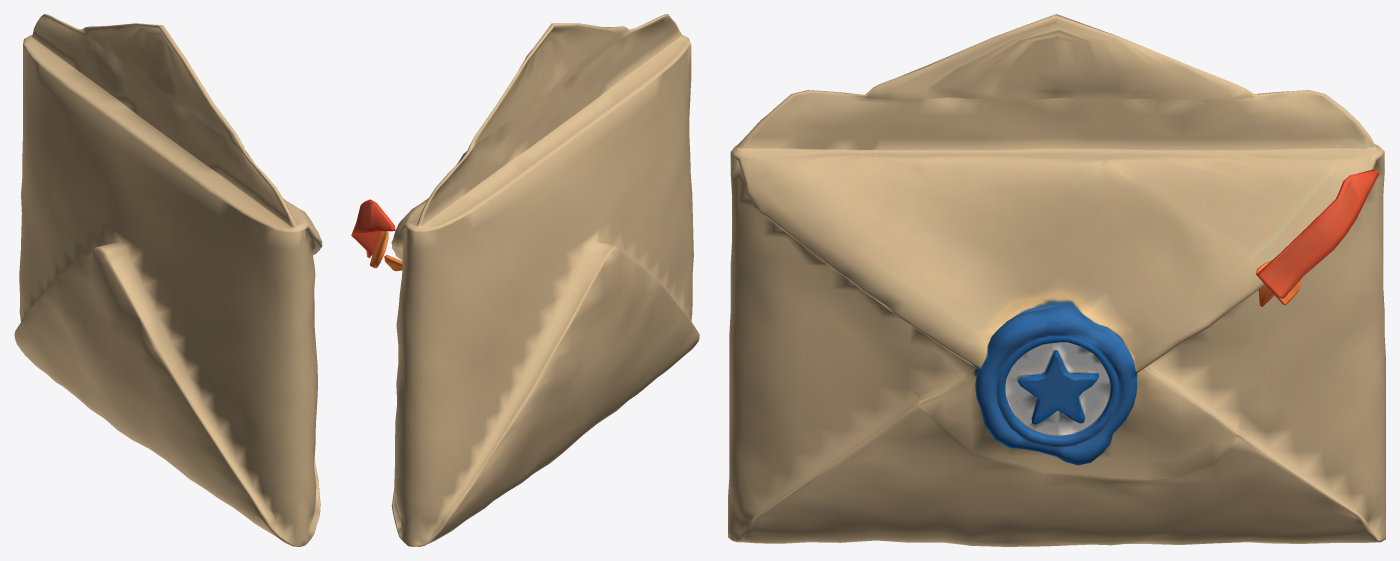
3 renders of one model, left to right at view 1: azimuth 30°, elevation 25°; view 2: azimuth 150°, elevation 25°; view 3: azimuth 270°, elevation 25°, orthographic. The views are drawn at different scales.
Visible parts, largest first — view 1: tripo_node_e7113225-08fc-4bca-a26e-1c8acb4c9e64; view 2: tripo_node_e7113225-08fc-4bca-a26e-1c8acb4c9e64; view 3: tripo_node_e7113225-08fc-4bca-a26e-1c8acb4c9e64.
Part boxes in pixels (bbox=[...]): tripo_node_e7113225-08fc-4bca-a26e-1c8acb4c9e64: bbox=[14, 14, 322, 546]; tripo_node_e7113225-08fc-4bca-a26e-1c8acb4c9e64: bbox=[351, 14, 699, 546]; tripo_node_e7113225-08fc-4bca-a26e-1c8acb4c9e64: bbox=[728, 14, 1385, 546].
Size of the model in its own units: 0.0769 by 0.2 by 0.2297.
1 material, 1 textured.
